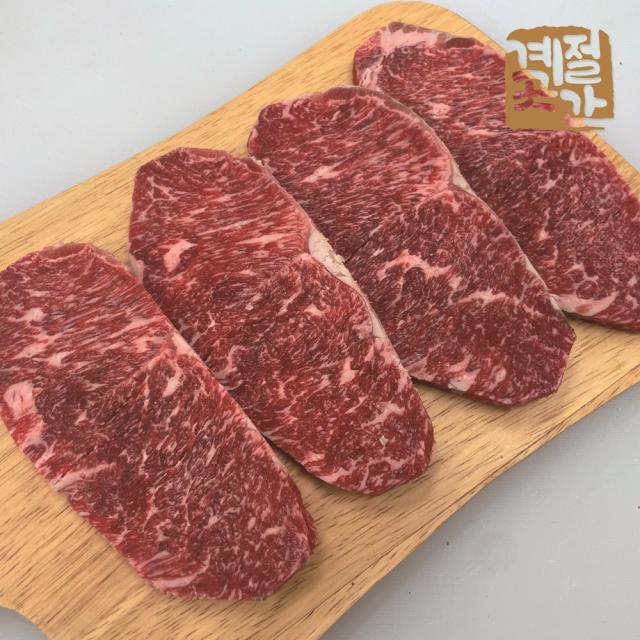beef: (33, 272, 235, 548), (195, 177, 392, 443), (367, 73, 503, 355)
